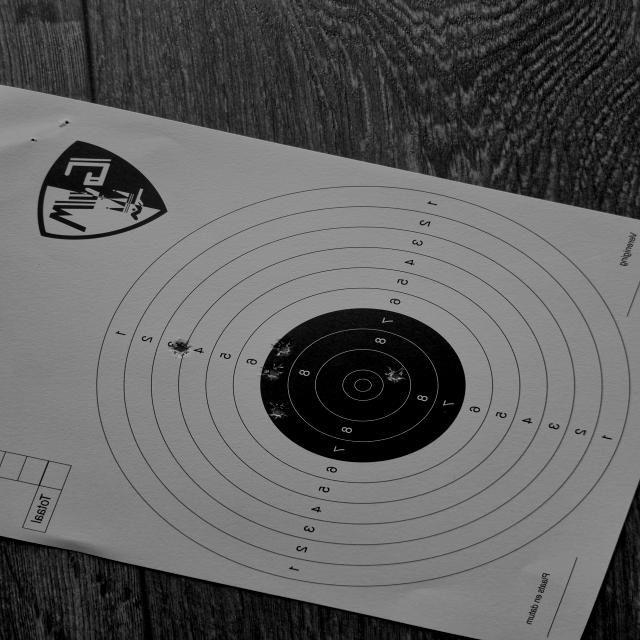5: (169, 339, 192, 358)
7: (260, 362, 283, 380), (270, 339, 293, 356), (268, 402, 289, 419)
9: (385, 364, 406, 382)
Target: (94, 187, 633, 587)
black_contour: (254, 309, 466, 464)
